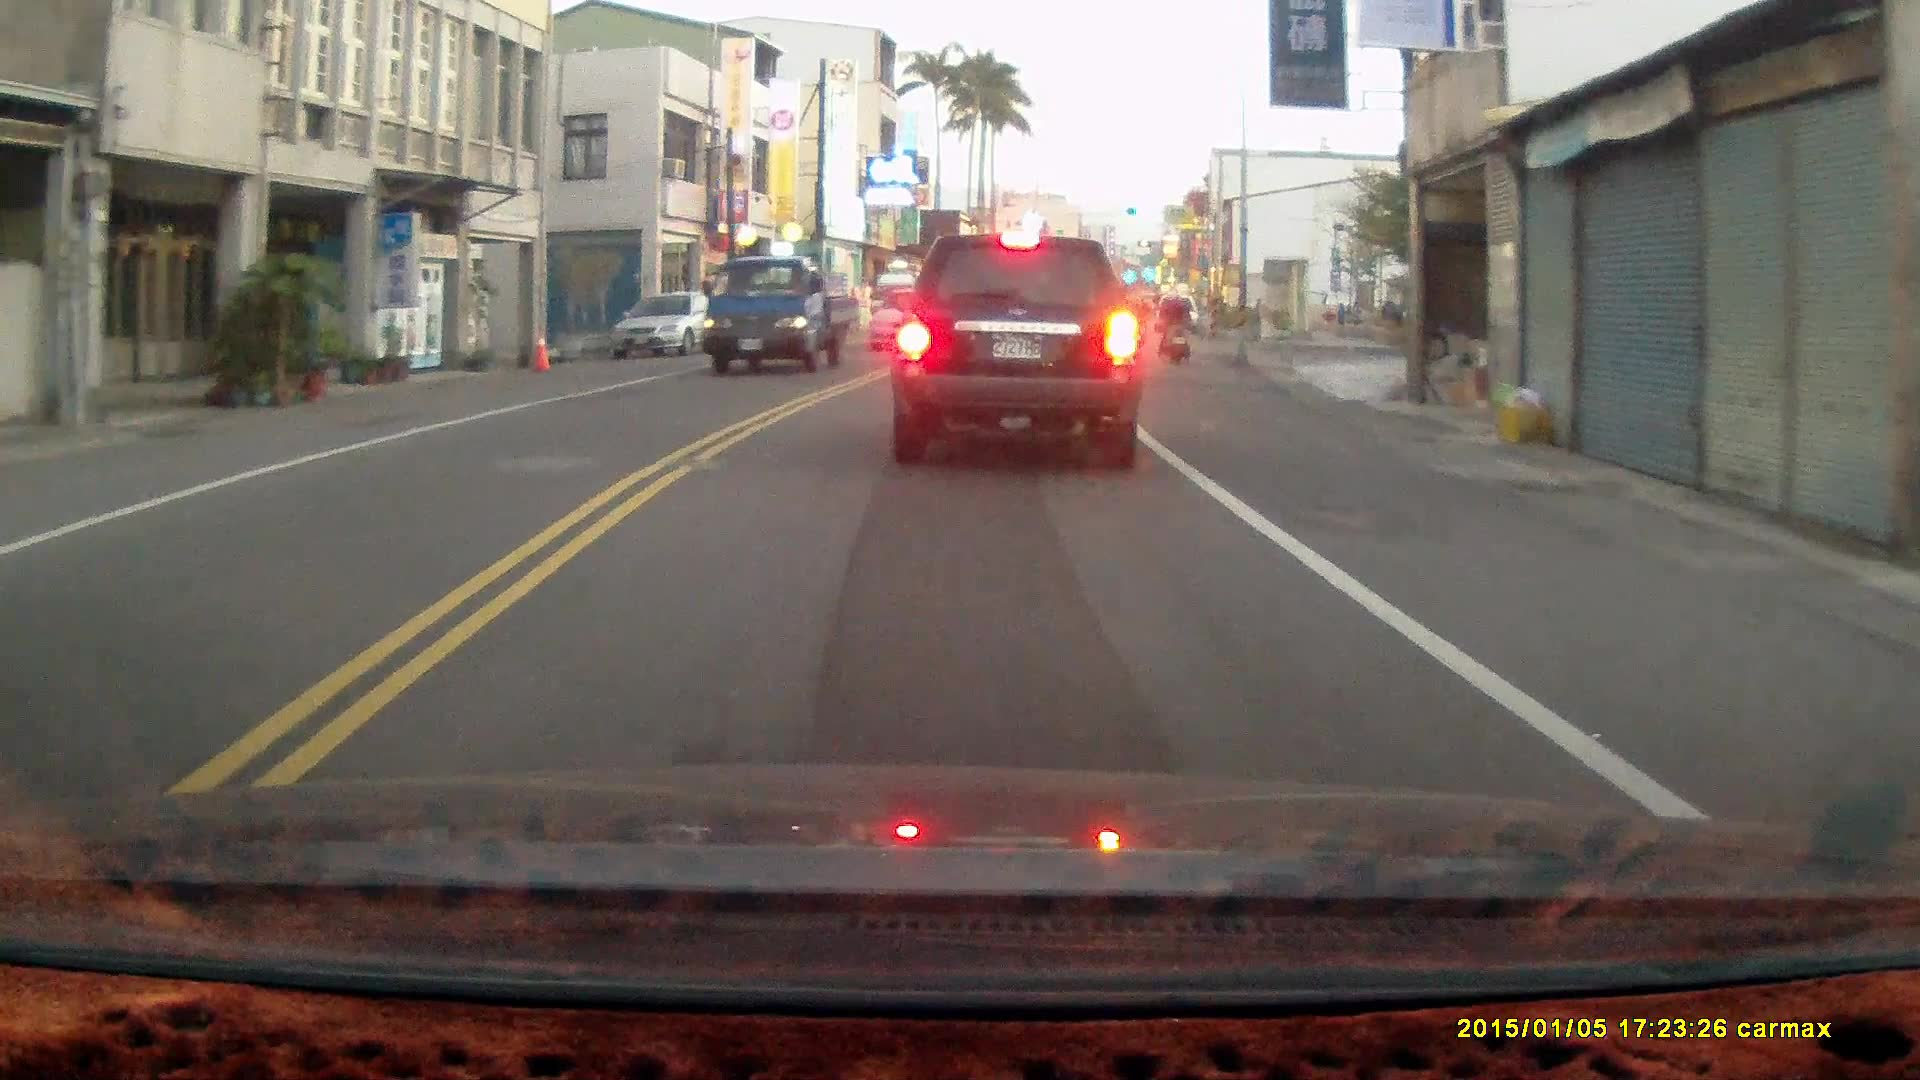rider: (1158, 280, 1189, 362)
vehicle: (890, 228, 1145, 468), (699, 251, 853, 375), (602, 291, 738, 359)
